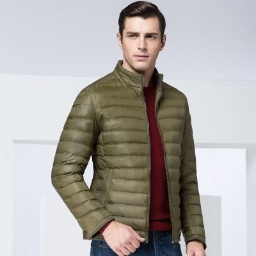face: (116, 2, 167, 72)
